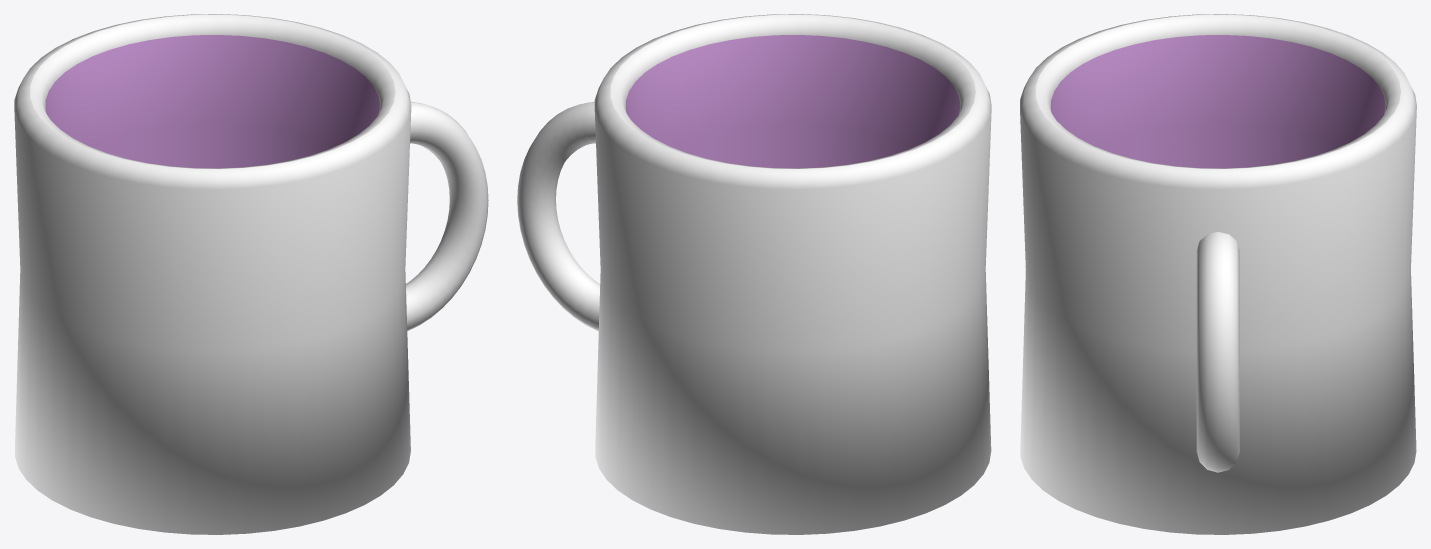
The model's file is DecoDecoMugCup.fbx.
3 views of the same model, side by side, from view 1: azimuth 30°, elevation 25°; view 2: azimuth 150°, elevation 25°; view 3: azimuth 270°, elevation 25° (orthographic).
Parts seen in each view (by area): view 1: 円柱, Torus.001; view 2: 円柱, Torus.001; view 3: 円柱, Torus.001.
Boxes of the visible parts, box(x1,y1,x2,y2) form: 円柱: box(14, 14, 411, 534); Torus.001: box(406, 101, 488, 330); 円柱: box(594, 14, 991, 534); Torus.001: box(517, 101, 600, 331); 円柱: box(1020, 14, 1416, 534); Torus.001: box(1196, 231, 1239, 472).
Bounding box in the file's own units: 2.59 × 2 × 2.
